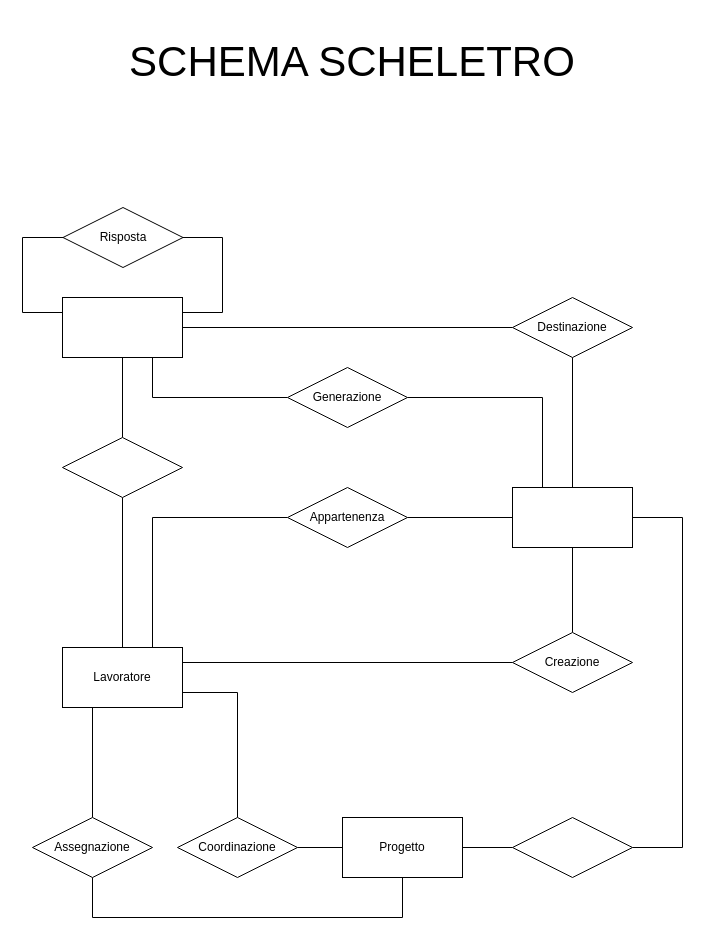
This 704x936 diagram has some shape labels left out. Each missing label, with the centre of its shape:
Canale di comunicazione: the point at 572,517
Messaggio: the point at 122,327
Riferimento: the point at 572,847
Scrittura: the point at 122,467
